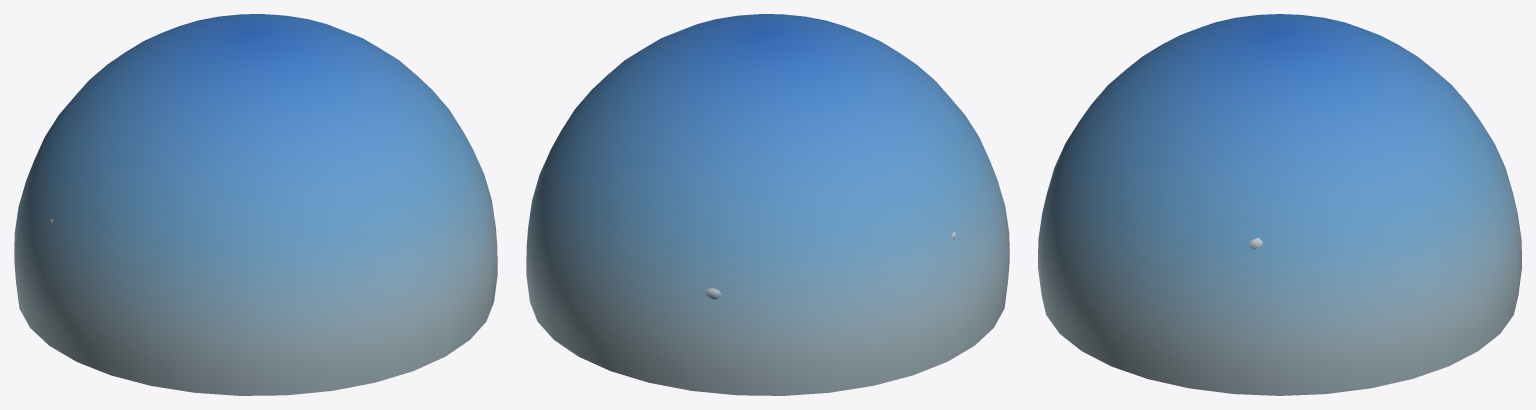
The model's file is w_sky.glb.
3 renders of one model, left to right at view 1: azimuth 30°, elevation 25°; view 2: azimuth 150°, elevation 25°; view 3: azimuth 270°, elevation 25°, orthographic.
Parts seen in each view (by area): view 1: dome; view 2: dome; view 3: dome.
Boxes of the visible parts, box(x1,y1,x2,y2) form: dome: box(14, 14, 497, 395); dome: box(526, 14, 1009, 395); dome: box(1038, 14, 1521, 395).
Size of the model in its own units: 2 by 1.18 by 2.
